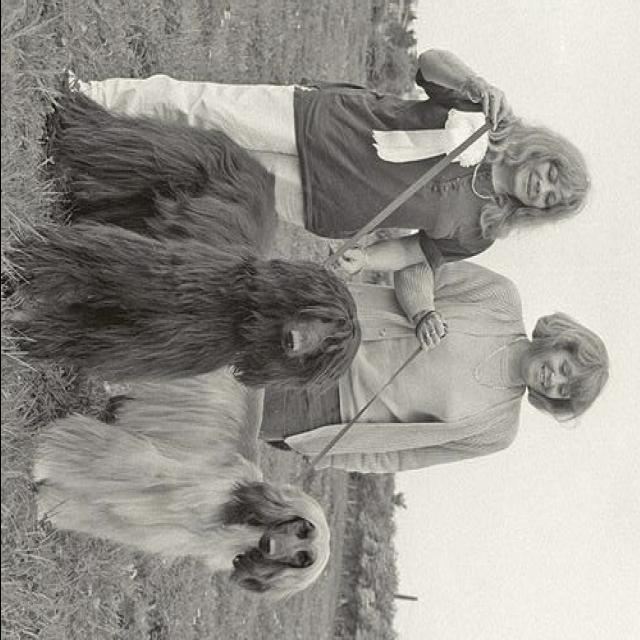afghan_hound: (18, 94, 358, 386), (23, 362, 329, 606)
